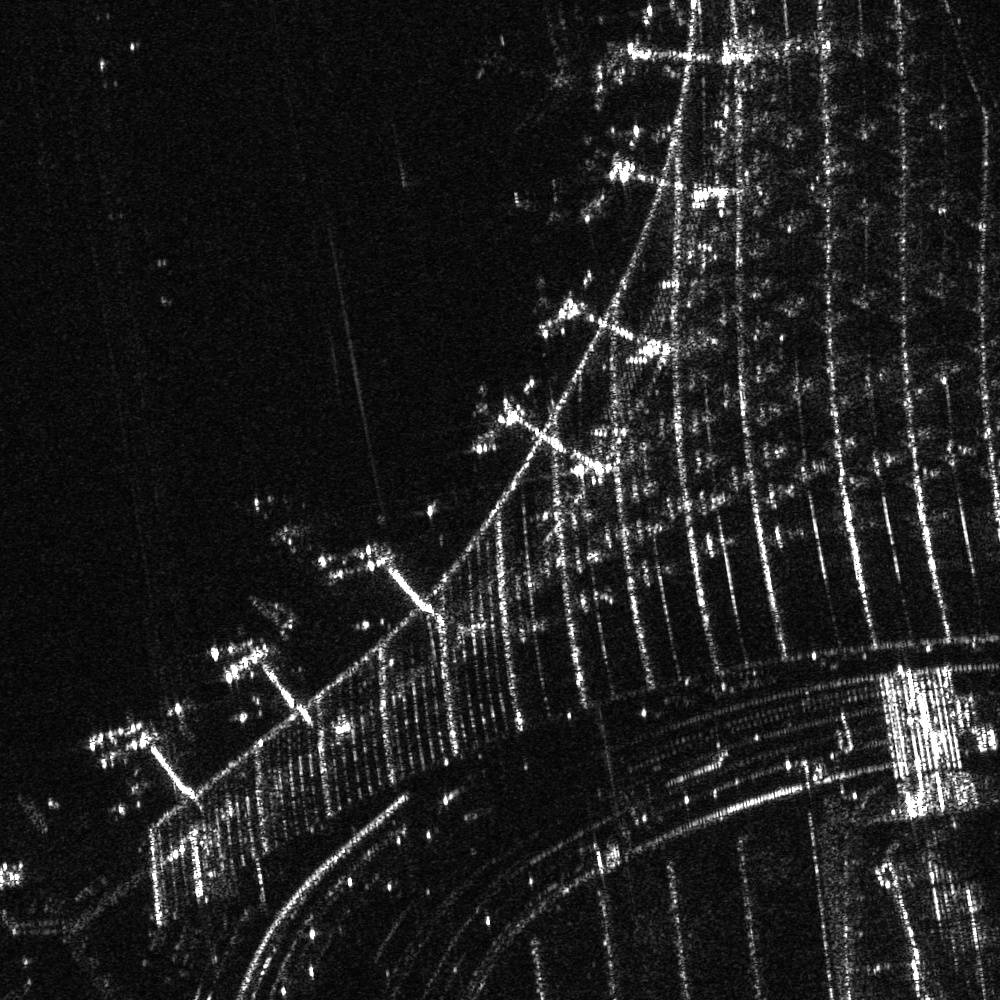A220: (513, 176, 577, 228)
other: (474, 6, 589, 135)
